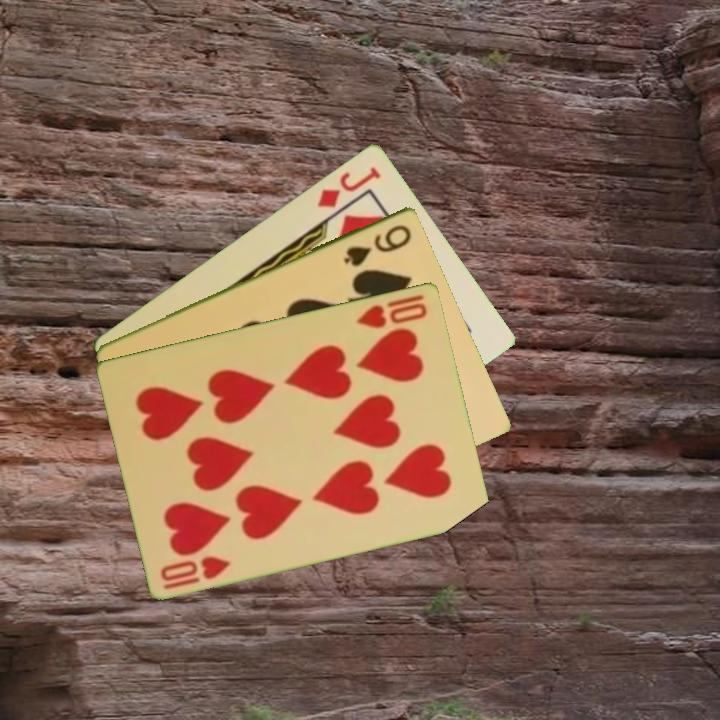10h: (353, 290, 430, 331), (157, 552, 234, 592)
9s: (340, 220, 415, 269)
Jd: (313, 162, 384, 210)
